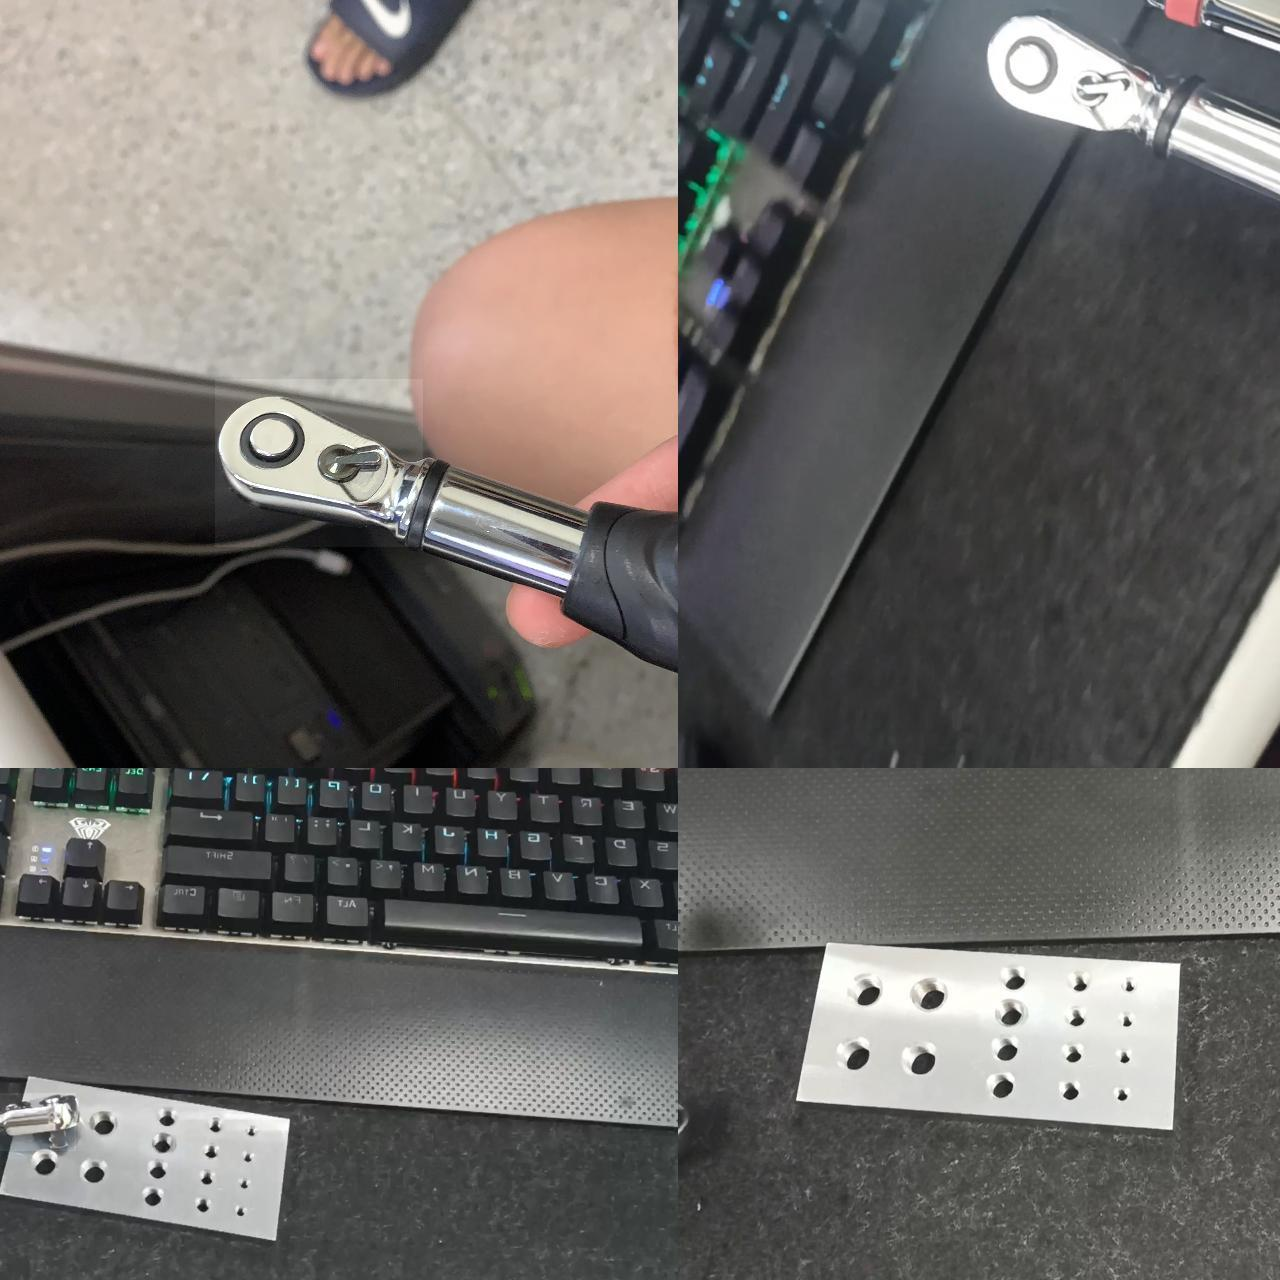Tool: (215, 379, 423, 547), (980, 9, 1176, 145), (0, 1092, 76, 1151)
hole: (87, 1105, 125, 1149), (840, 1029, 877, 1073), (849, 971, 888, 1009), (905, 1044, 952, 1077), (911, 973, 953, 1009), (77, 1151, 109, 1198), (29, 1145, 62, 1182), (980, 1080, 1022, 1105), (998, 960, 1029, 994), (988, 1033, 1023, 1063), (995, 998, 1026, 1030), (141, 1190, 168, 1216), (156, 1107, 181, 1131), (152, 1131, 176, 1156), (145, 1164, 172, 1184), (1069, 971, 1090, 995), (199, 1110, 225, 1130), (233, 1200, 252, 1224), (196, 1170, 217, 1189), (200, 1142, 220, 1159), (190, 1196, 210, 1212), (237, 1180, 258, 1189), (240, 1150, 254, 1162), (258, 1136, 260, 1137)
